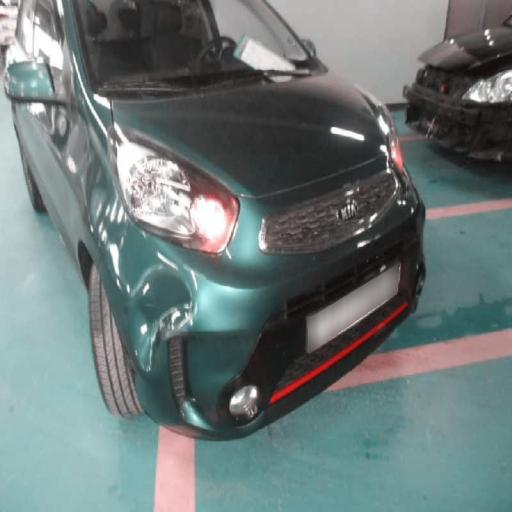scratch: (86, 190, 204, 378)
